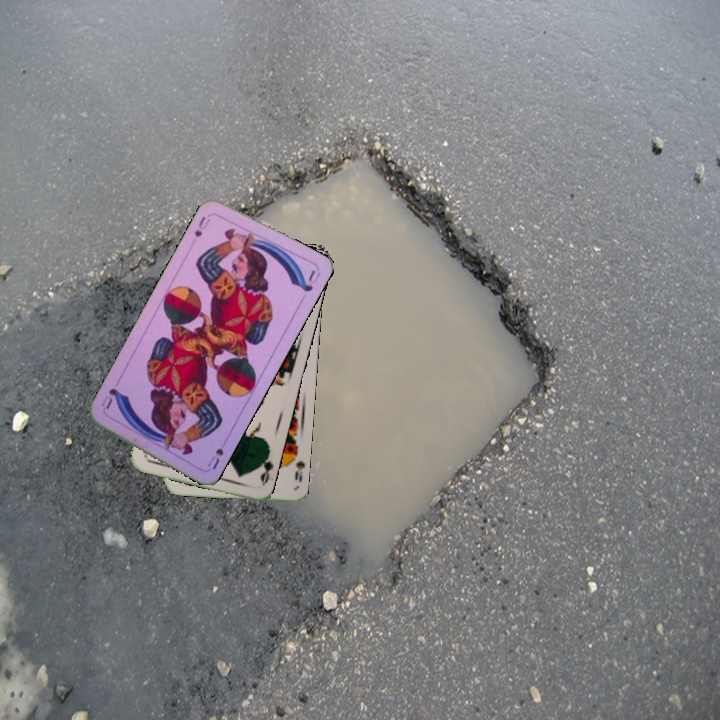GO: (253, 447, 275, 487)
S9: (286, 447, 306, 485)
SU: (190, 209, 216, 240), (203, 442, 226, 472)
